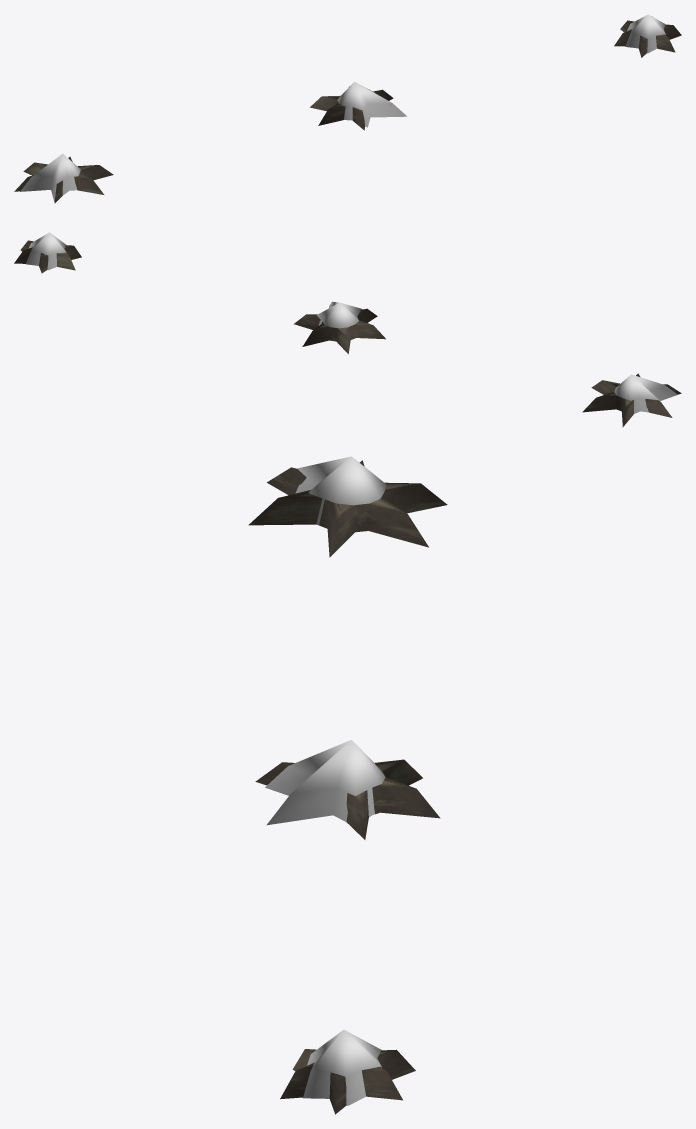
The model's file is jungle_tree_stump.gltf.
3 renders of one model, top to bottom at view 1: azimuth 30°, elevation 25°; view 2: azimuth 150°, elevation 25°; view 3: azimuth 270°, elevation 25°, orthographic. The views are drawn at different scales.
Parts seen in each view (by area): view 1: JungleTree2Stump_COL, JungleTree1Stump_COL, JungleTree1Stump_LOD0, JungleTree2Stump_LOD0, JungleTree3Stump_COL, JungleTree3Stump_LOD0; view 2: JungleTree2Stump_LOD0, JungleTree1Stump_LOD0, JungleTree1Stump_COL, JungleTree3Stump_COL, JungleTree2Stump_COL, JungleTree3Stump_LOD0; view 3: JungleTree1Stump_LOD0, JungleTree2Stump_COL, JungleTree2Stump_LOD0, JungleTree3Stump_COL, JungleTree1Stump_COL, JungleTree3Stump_LOD0.
Part boxes in pixels (<box>): JungleTree2Stump_COL: <box>337,82,406,127</box>; JungleTree1Stump_COL: <box>20,153,80,201</box>; JungleTree1Stump_LOD0: <box>14,156,113,203</box>; JungleTree2Stump_LOD0: <box>310,86,393,130</box>; JungleTree3Stump_COL: <box>625,14,665,53</box>; JungleTree3Stump_LOD0: <box>614,16,681,57</box>; JungleTree2Stump_LOD0: <box>294,308,385,354</box>; JungleTree1Stump_LOD0: <box>582,373,681,427</box>; JungleTree1Stump_COL: <box>614,374,677,413</box>; JungleTree3Stump_COL: <box>26,232,66,270</box>; JungleTree2Stump_COL: <box>316,301,362,328</box>; JungleTree3Stump_LOD0: <box>14,240,81,273</box>; JungleTree1Stump_LOD0: <box>248,460,447,557</box>; JungleTree2Stump_COL: <box>265,740,385,825</box>; JungleTree2Stump_LOD0: <box>255,759,440,839</box>; JungleTree3Stump_COL: <box>303,1029,381,1105</box>; JungleTree1Stump_COL: <box>295,456,386,525</box>; JungleTree3Stump_LOD0: <box>280,1049,415,1114</box>.
Size of the model in its own units: 33.92 by 1.6 by 4.44.
Materials: 1 (1 with a texture image).
